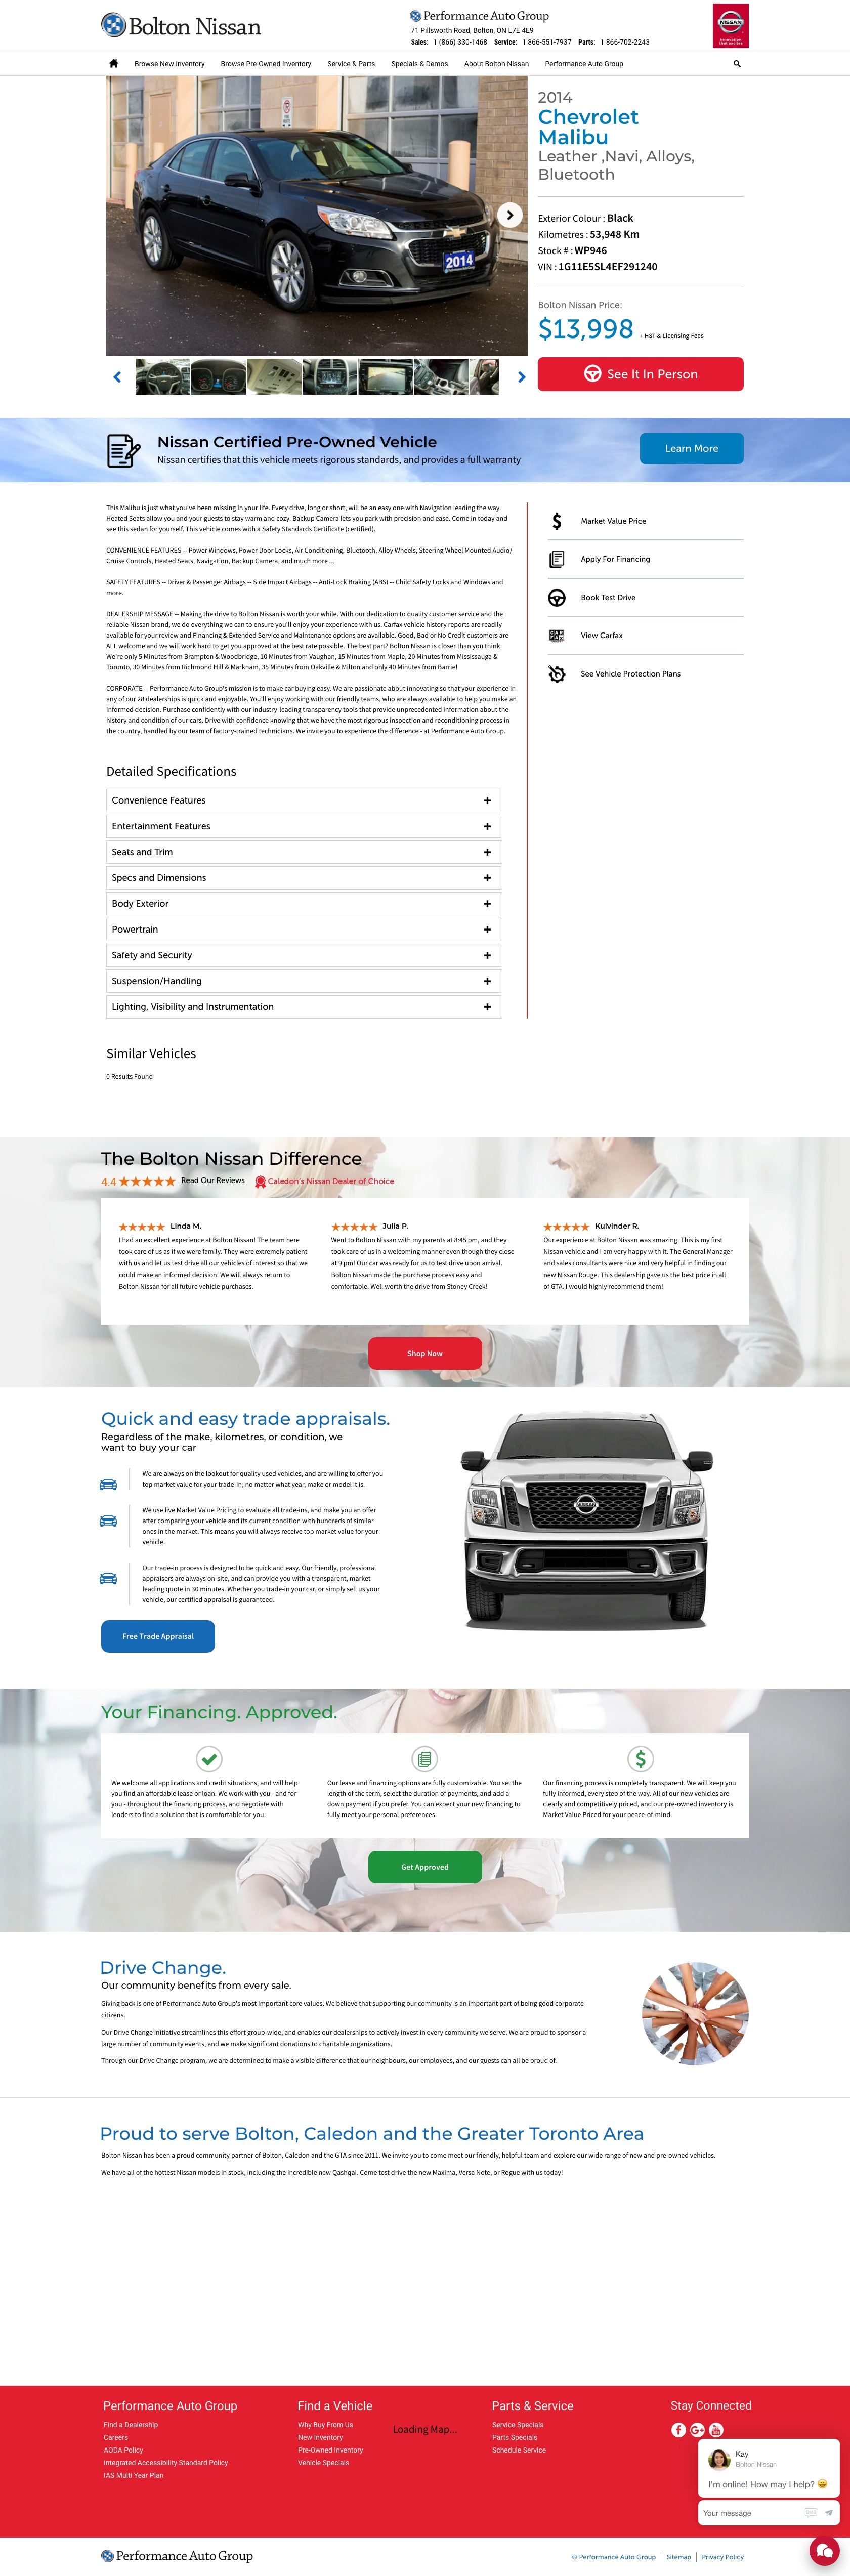car: (518, 371, 526, 384)
